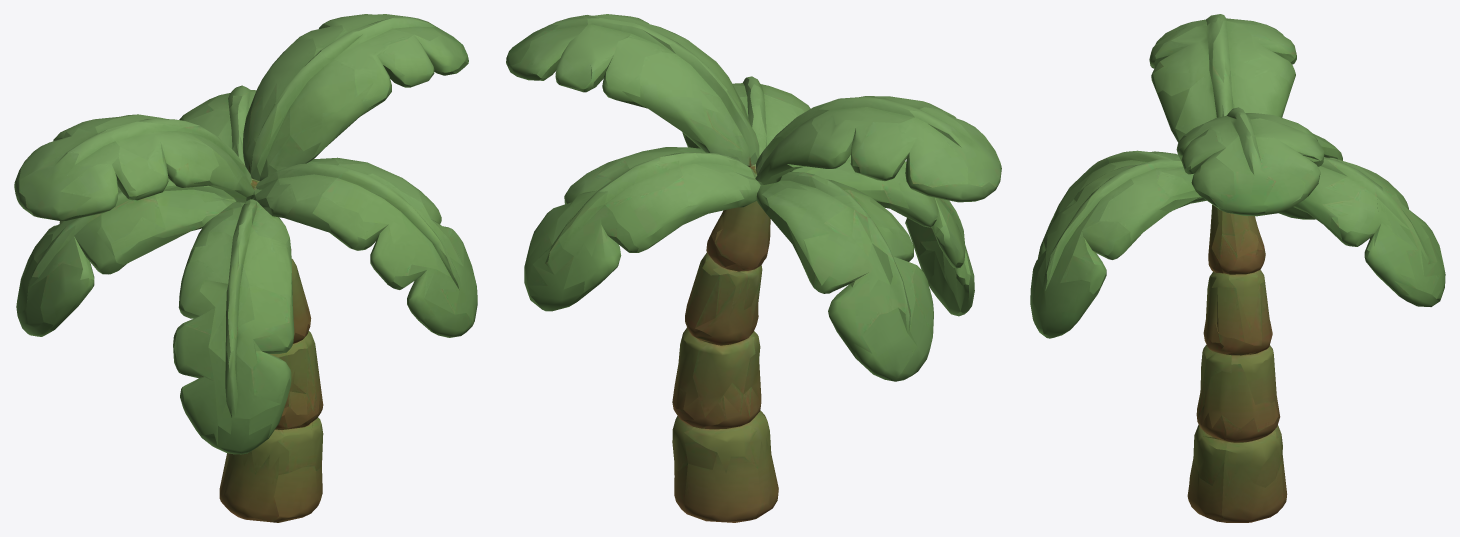
Rendered from btree.glb.
3 views of the same model, side by side, from view 1: azimuth 30°, elevation 25°; view 2: azimuth 150°, elevation 25°; view 3: azimuth 270°, elevation 25° (orthographic). The views are drawn at different scales.
Visible parts, largest first — view 1: Mesh_0; view 2: Mesh_0; view 3: Mesh_0.
Boxes of the visible parts, x1,y1,x2,y2 form: Mesh_0: [14, 14, 477, 522]; Mesh_0: [506, 14, 1001, 522]; Mesh_0: [1030, 14, 1445, 522].
Size of the model in its own units: 1.9 by 1.82 by 1.58.
1 material, 1 textured.
